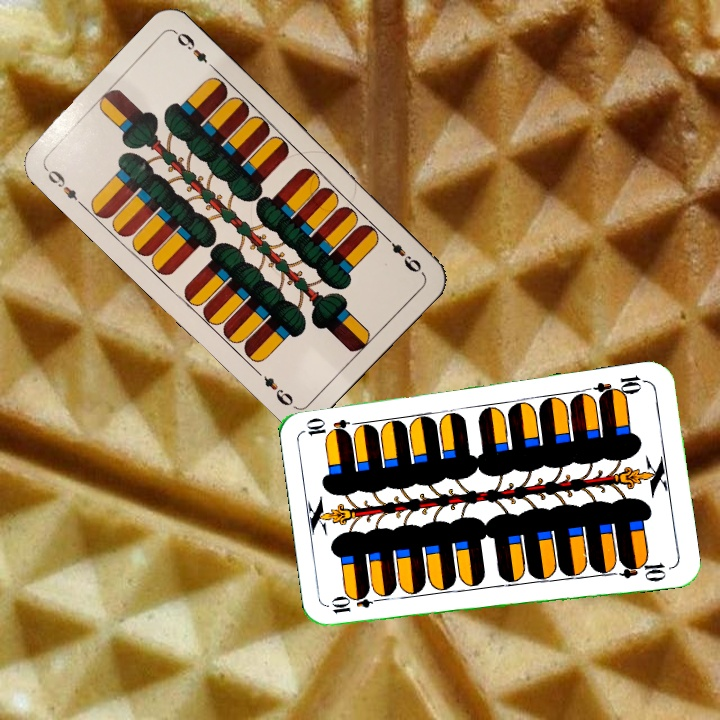E10: (590, 371, 650, 402), (327, 592, 386, 616)
E9: (41, 163, 87, 210), (379, 230, 425, 275)
